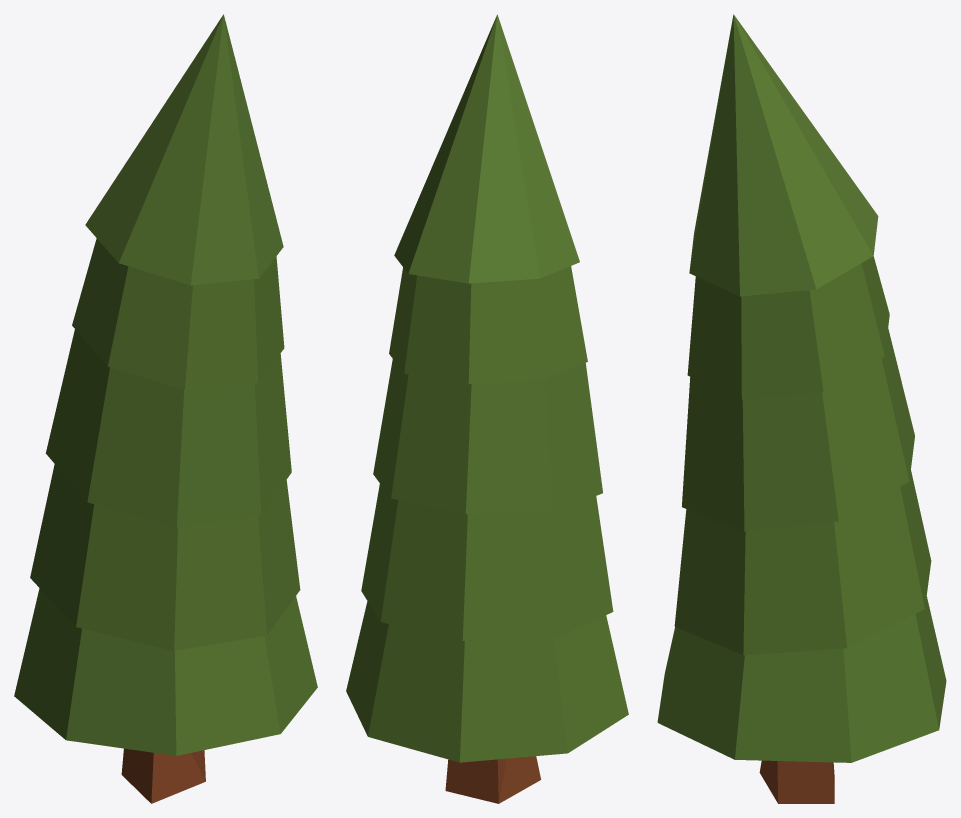
The model's file is tree04.fbx.
3 renders of one model, left to right at view 1: azimuth 30°, elevation 25°; view 2: azimuth 150°, elevation 25°; view 3: azimuth 270°, elevation 25°, orthographic. The views are drawn at different scales.
Parts seen in each view (by area): view 1: tree 4.001_6, tree 4_7; view 2: tree 4.001_6, tree 4_7; view 3: tree 4.001_6, tree 4_7.
Part boxes in pixels (x1,y1,x2,y2): tree 4.001_6: [14, 14, 317, 755]; tree 4_7: [121, 748, 205, 803]; tree 4.001_6: [346, 14, 628, 762]; tree 4_7: [445, 756, 540, 803]; tree 4.001_6: [657, 14, 946, 762]; tree 4_7: [759, 760, 834, 803].
Size of the model in its own units: 308 by 927 by 308.
